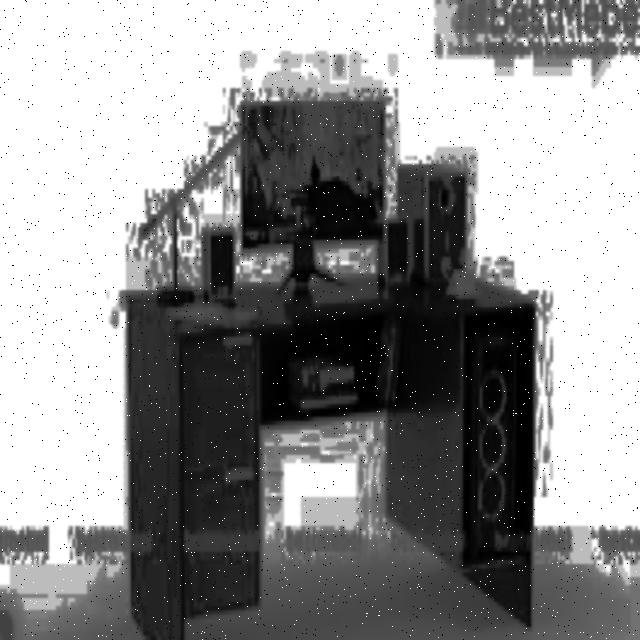table: (124, 269, 536, 640)
